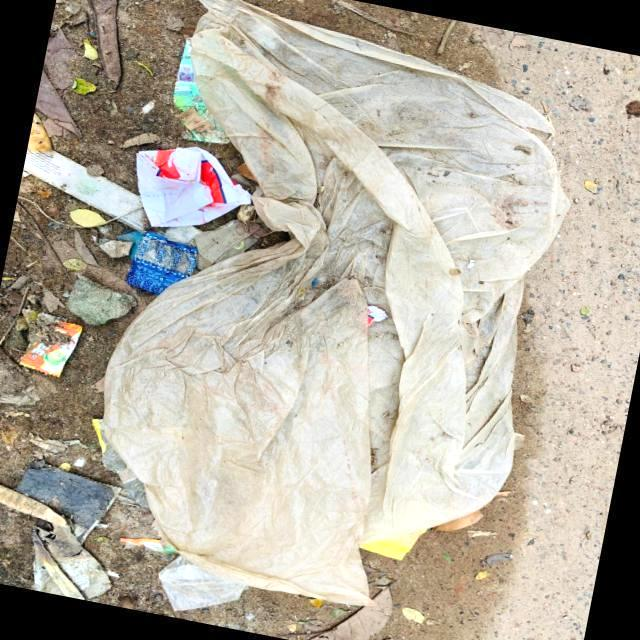polythene: (98, 20, 591, 615)
